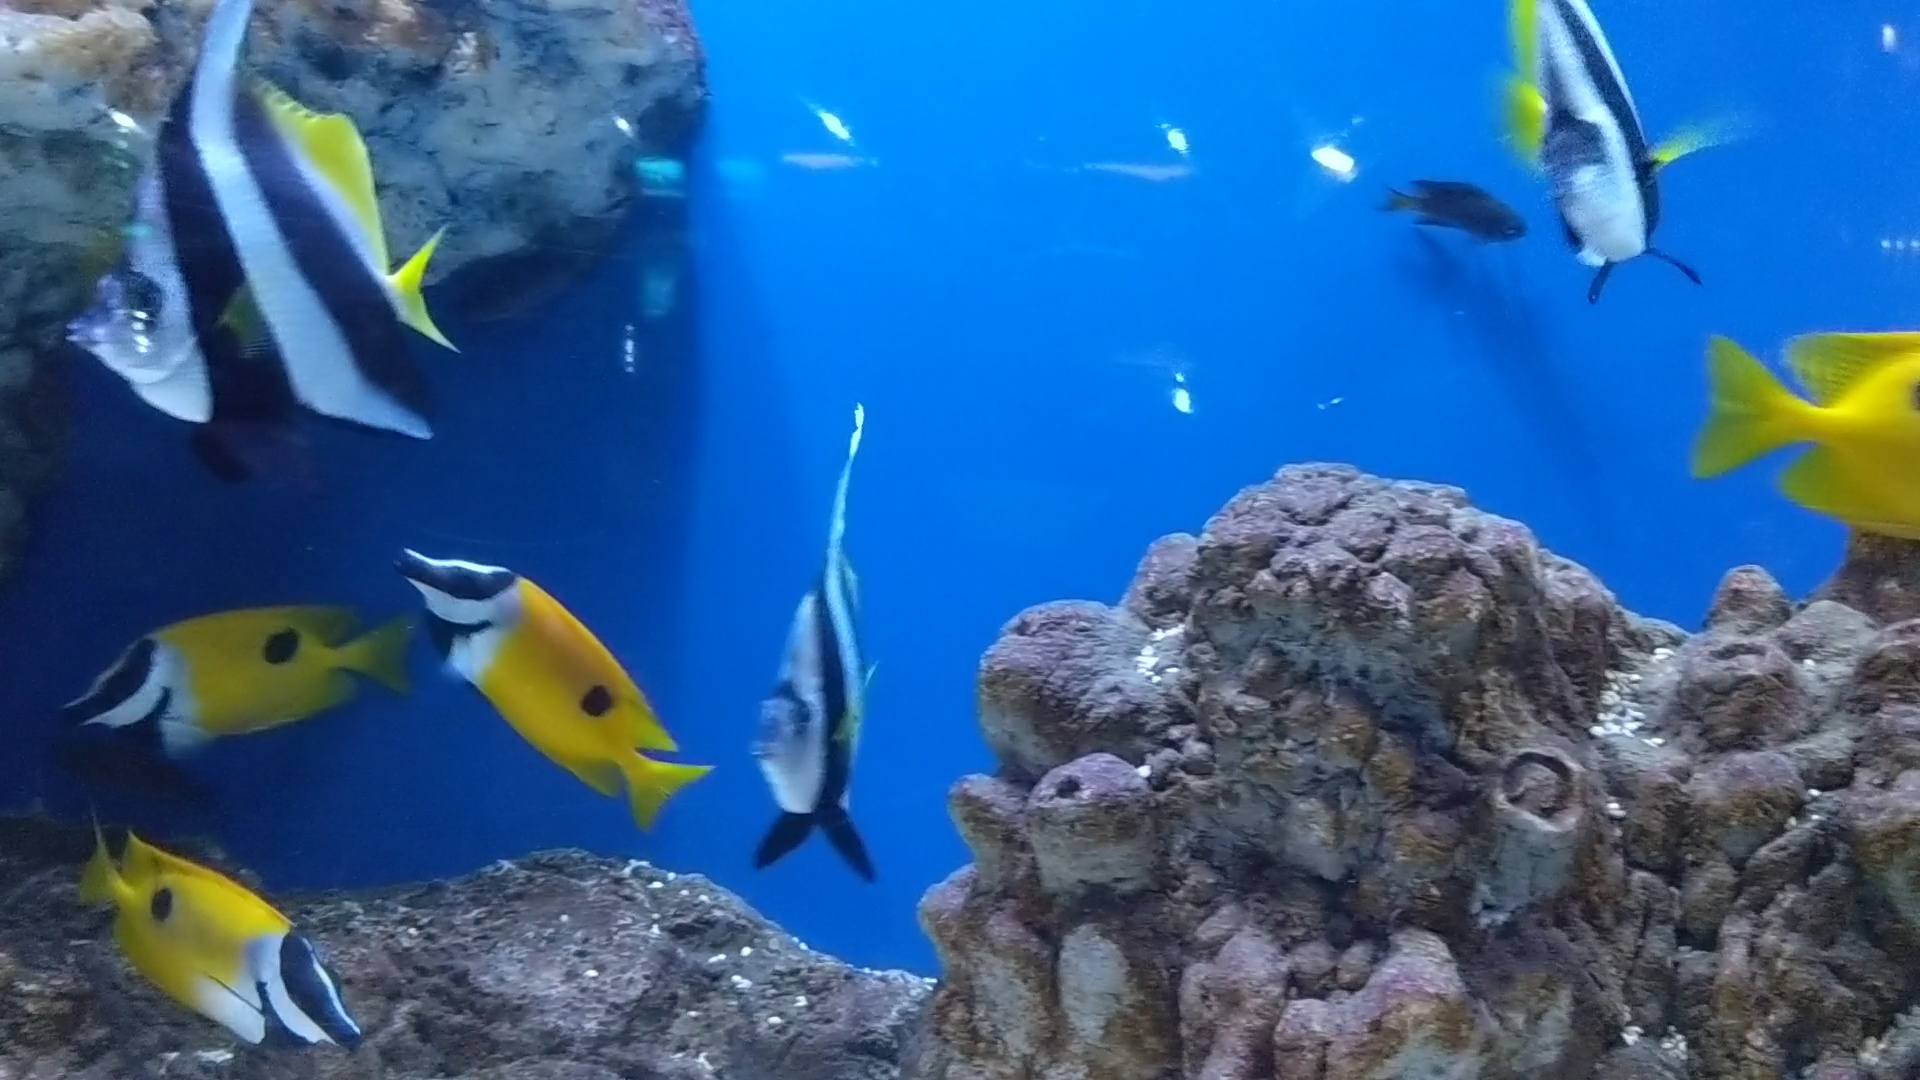moorfish: (15, 18, 464, 448), (738, 425, 893, 874), (1482, 15, 1683, 282)
rabbitfish: (398, 530, 727, 828), (73, 816, 367, 1068), (61, 607, 398, 754), (1687, 316, 1915, 530)
